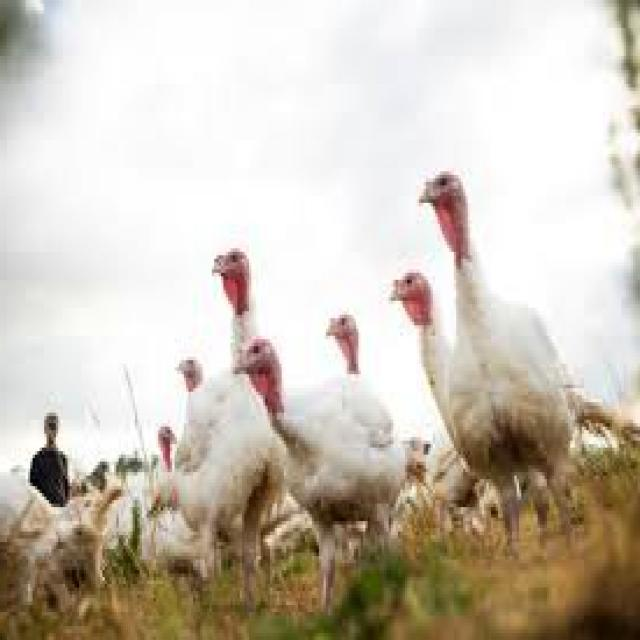turkey: (421, 171, 575, 528), (237, 336, 407, 605), (179, 248, 284, 567), (393, 269, 454, 437), (328, 315, 361, 371)
